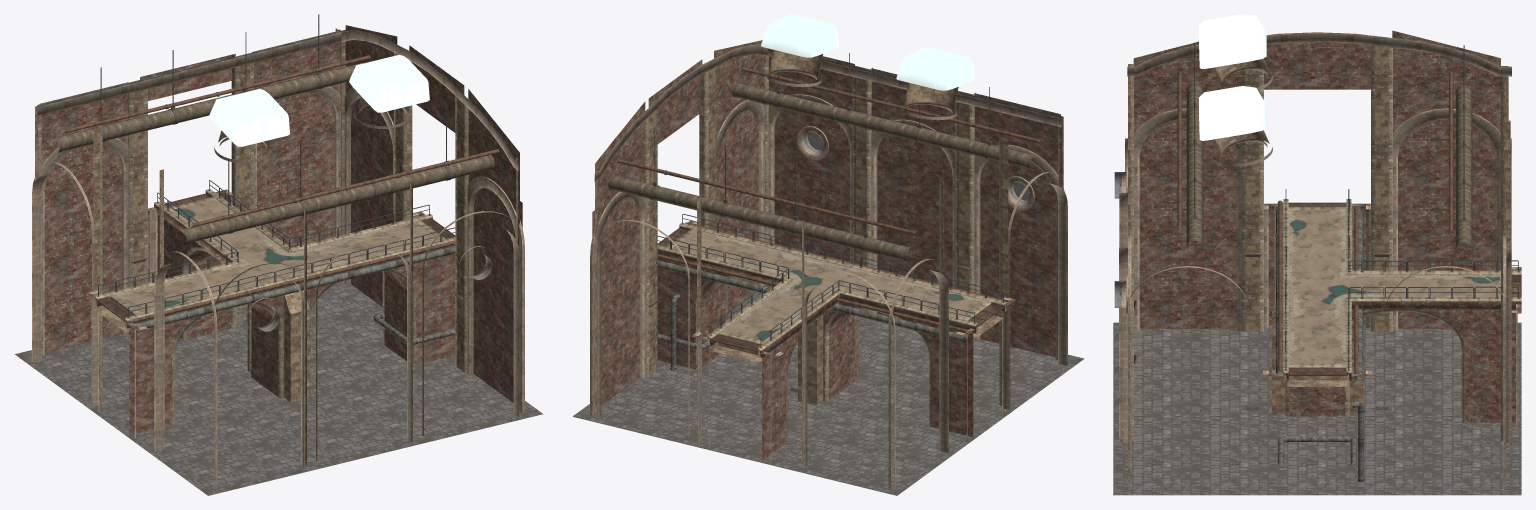
Rendered from t3_road_t_junction_b.glb.
3 views of the same model, side by side, from view 1: azimuth 30°, elevation 25°; view 2: azimuth 150°, elevation 25°; view 3: azimuth 270°, elevation 25° (orthographic). The views are drawn at different scales.
Visible parts, largest first — view 1: um_t3_road_t_junction_b_model_t3_road_t_junction_b_modelShap; view 2: um_t3_road_t_junction_b_model_t3_road_t_junction_b_modelShap; view 3: um_t3_road_t_junction_b_model_t3_road_t_junction_b_modelShap.
Part boxes in pixels (x1,y1,x2,y2): um_t3_road_t_junction_b_model_t3_road_t_junction_b_modelShap: [14, 14, 543, 495]; um_t3_road_t_junction_b_model_t3_road_t_junction_b_modelShap: [572, 14, 1084, 495]; um_t3_road_t_junction_b_model_t3_road_t_junction_b_modelShap: [1113, 14, 1521, 495].
Size of the model in its own units: 30.02 by 28.4 by 30.01.
Materials: 10 (10 with a texture image).
